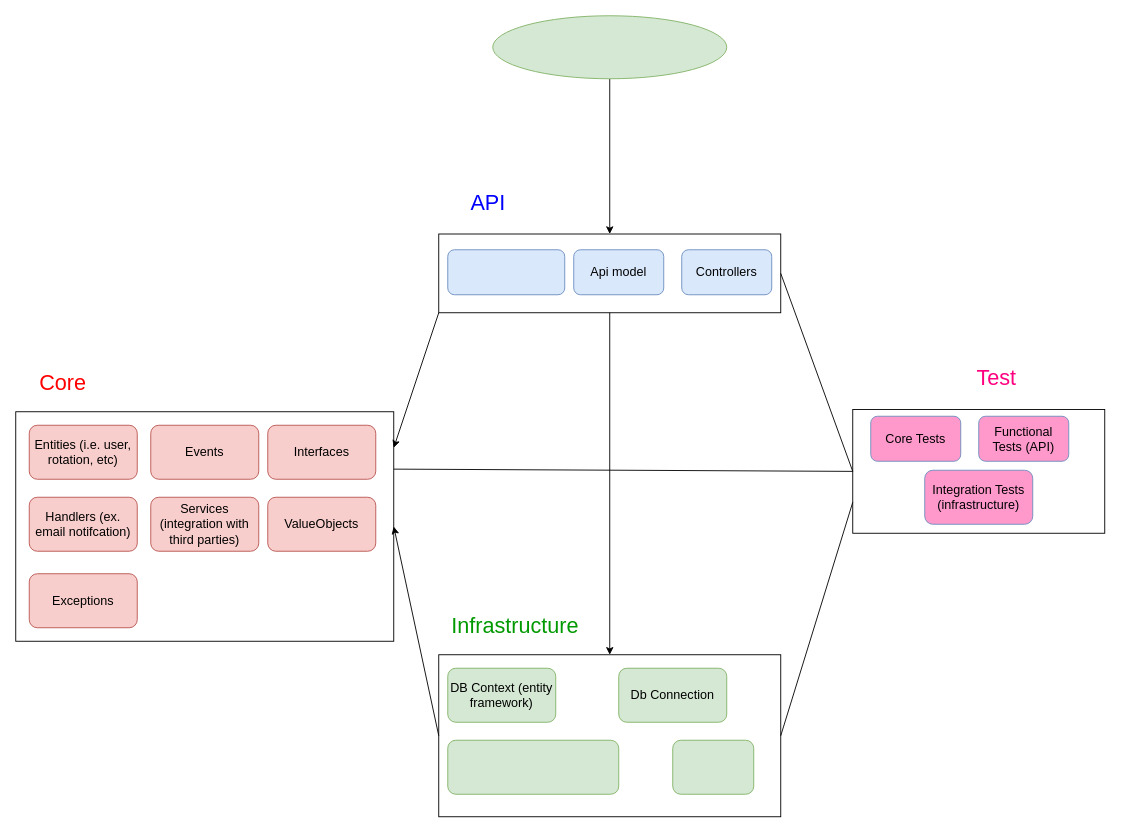
Some shapes in this 1121 by 833 pixel diagram are drawn without their labels. Here are the shapes that lost their labels. From the top down, the centre of each, then its label:
At (x=609, y=47): "Frontend/Client".
At (x=506, y=272): "Filters (auth, model validation, etc)".
At (x=533, y=766): "Db repository (class responsible for actually interacting with the db)".
At (x=713, y=766): "caching".
